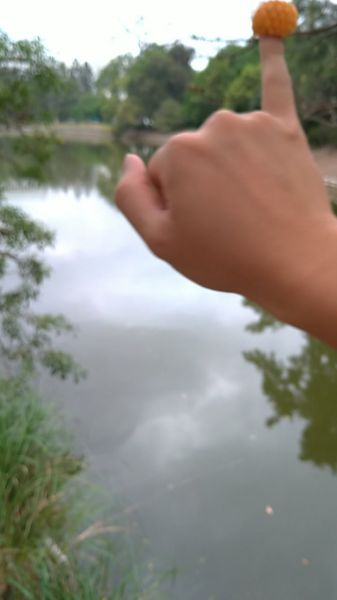eggs: (252, 1, 297, 39)
